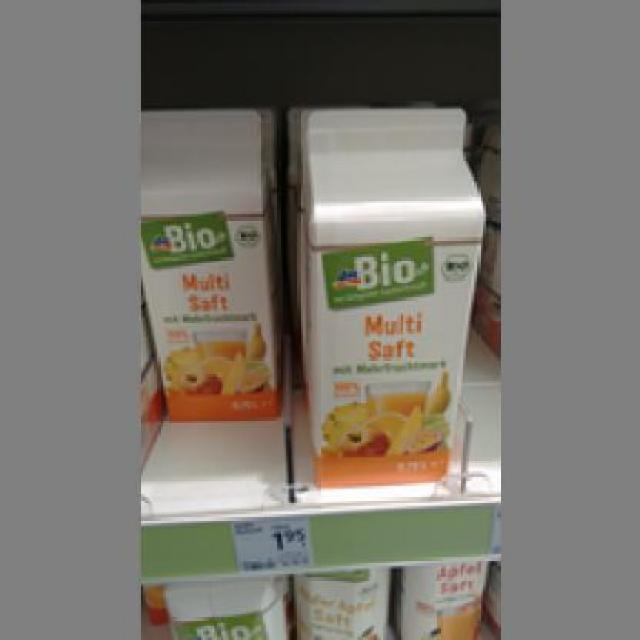Juice: (300, 106, 483, 483), (137, 106, 283, 420)
